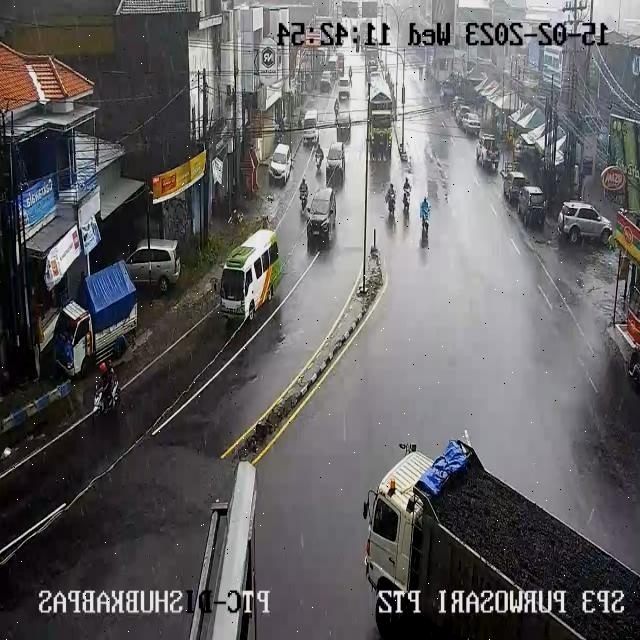Bus: (218, 232, 279, 324)
Car: (126, 239, 182, 294), (558, 202, 613, 246), (307, 189, 335, 248), (515, 186, 546, 228), (269, 143, 293, 185), (501, 170, 527, 203), (476, 135, 500, 170), (326, 142, 346, 182), (302, 109, 319, 143), (462, 112, 482, 134), (336, 111, 350, 140), (336, 73, 352, 98), (440, 80, 456, 104), (455, 105, 471, 126), (369, 71, 384, 91), (451, 96, 465, 116), (320, 71, 333, 92), (328, 55, 338, 78), (367, 58, 379, 76)
Motorbike: (95, 363, 120, 412), (419, 198, 432, 236), (299, 180, 309, 208), (385, 183, 396, 206), (314, 144, 324, 168), (402, 190, 410, 213), (334, 99, 340, 118)
Truck: (364, 458, 638, 622), (55, 260, 135, 373), (367, 74, 394, 156)
